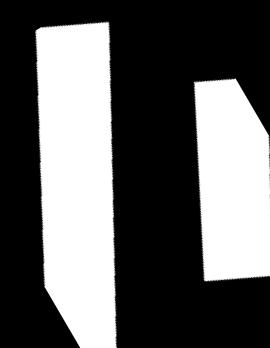parkingspot: (35, 22, 117, 348), (194, 79, 270, 282)
